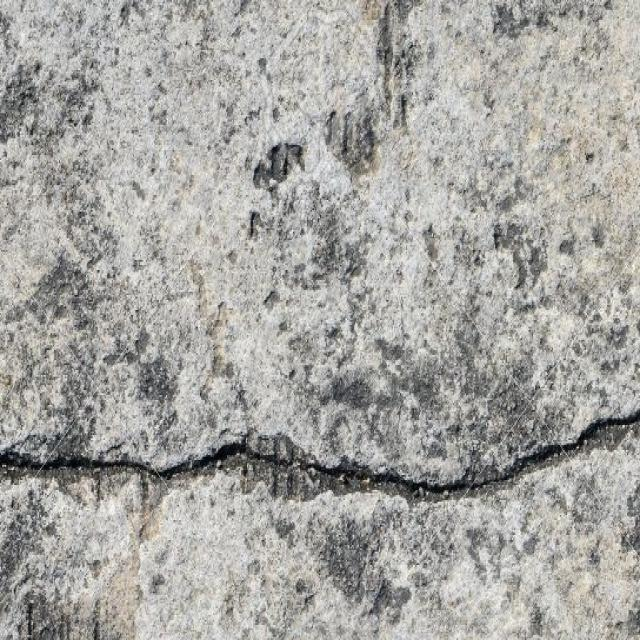crack: (1, 409, 639, 514)
spall: (234, 427, 324, 503)
